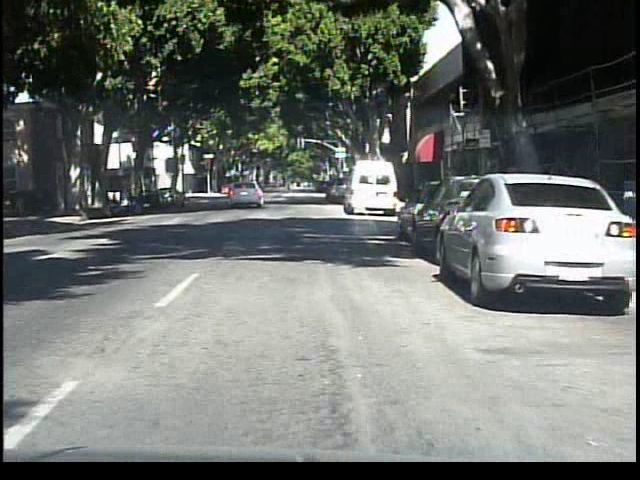person: (274, 169, 294, 202)
